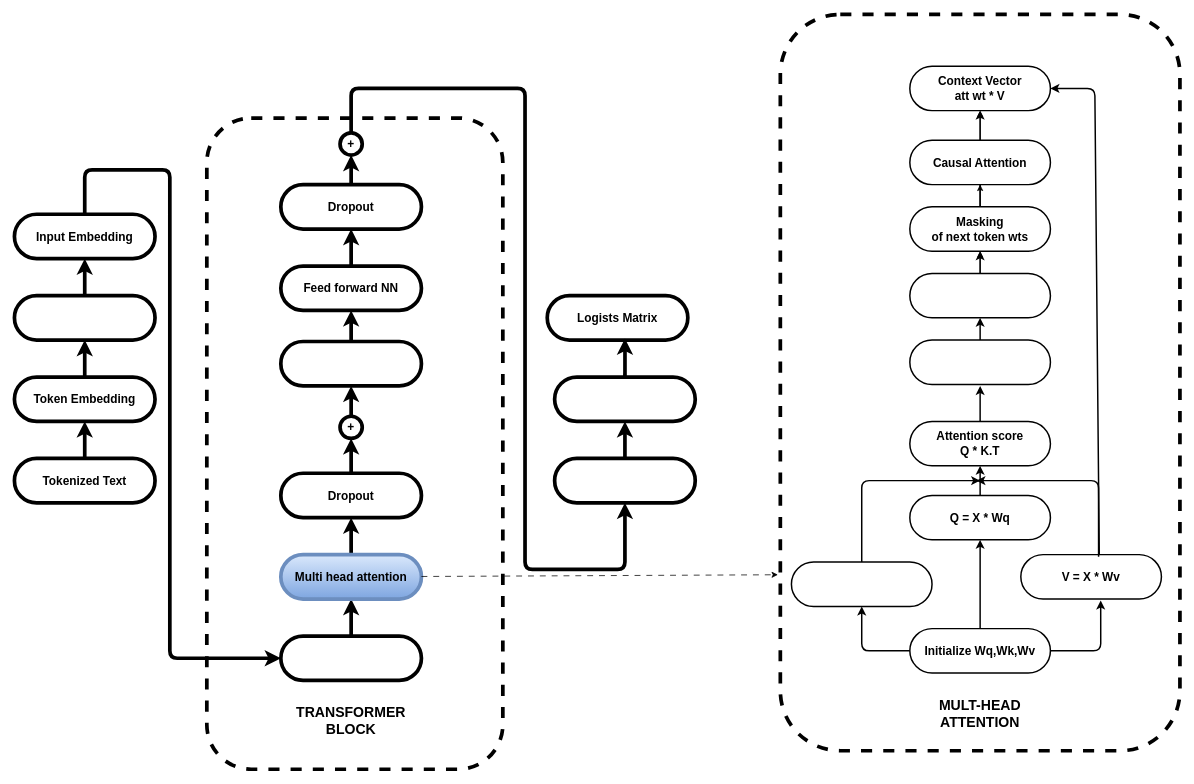
The diagram is 1194 pixels wide and 784 high, and some of its shapes have lost their labels. Here are the shapes that lost their labels. From the top down, the centre of each, then its label:
At point (980, 295): "Bi-dir Attention weights".
At point (84, 317): "Positional Embedding".
At point (351, 363): "Layer Norm".
At point (980, 362): "Normalization softmax(score/sqrt(dim))".
At point (624, 399): "Output Layer".
At point (624, 480): "Final Layer Norm".
At point (861, 584): "K = X * Wk".
At point (351, 658): "Layer Norm 1".
